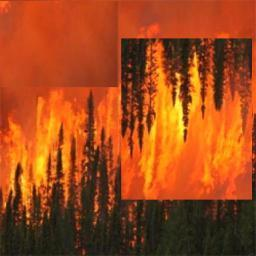Heavy smoke: (7, 3, 119, 80)
Large fire: (122, 38, 250, 201), (1, 91, 120, 230)
